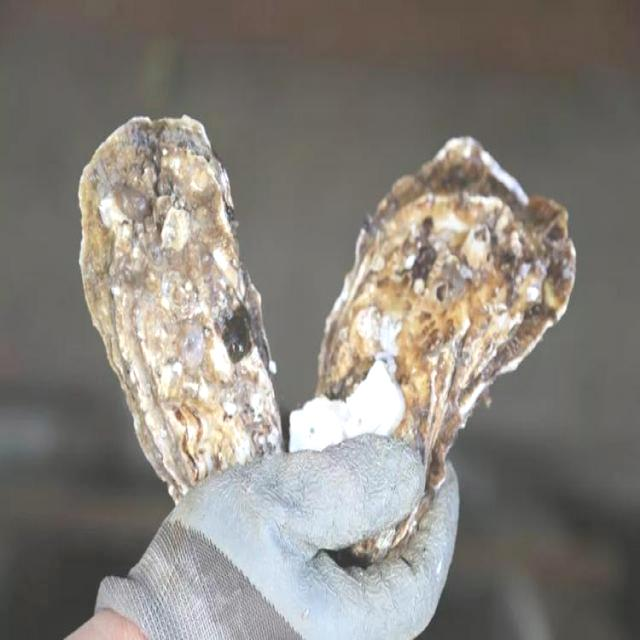Oyster-Closed: (313, 118, 579, 574), (80, 112, 282, 508)
